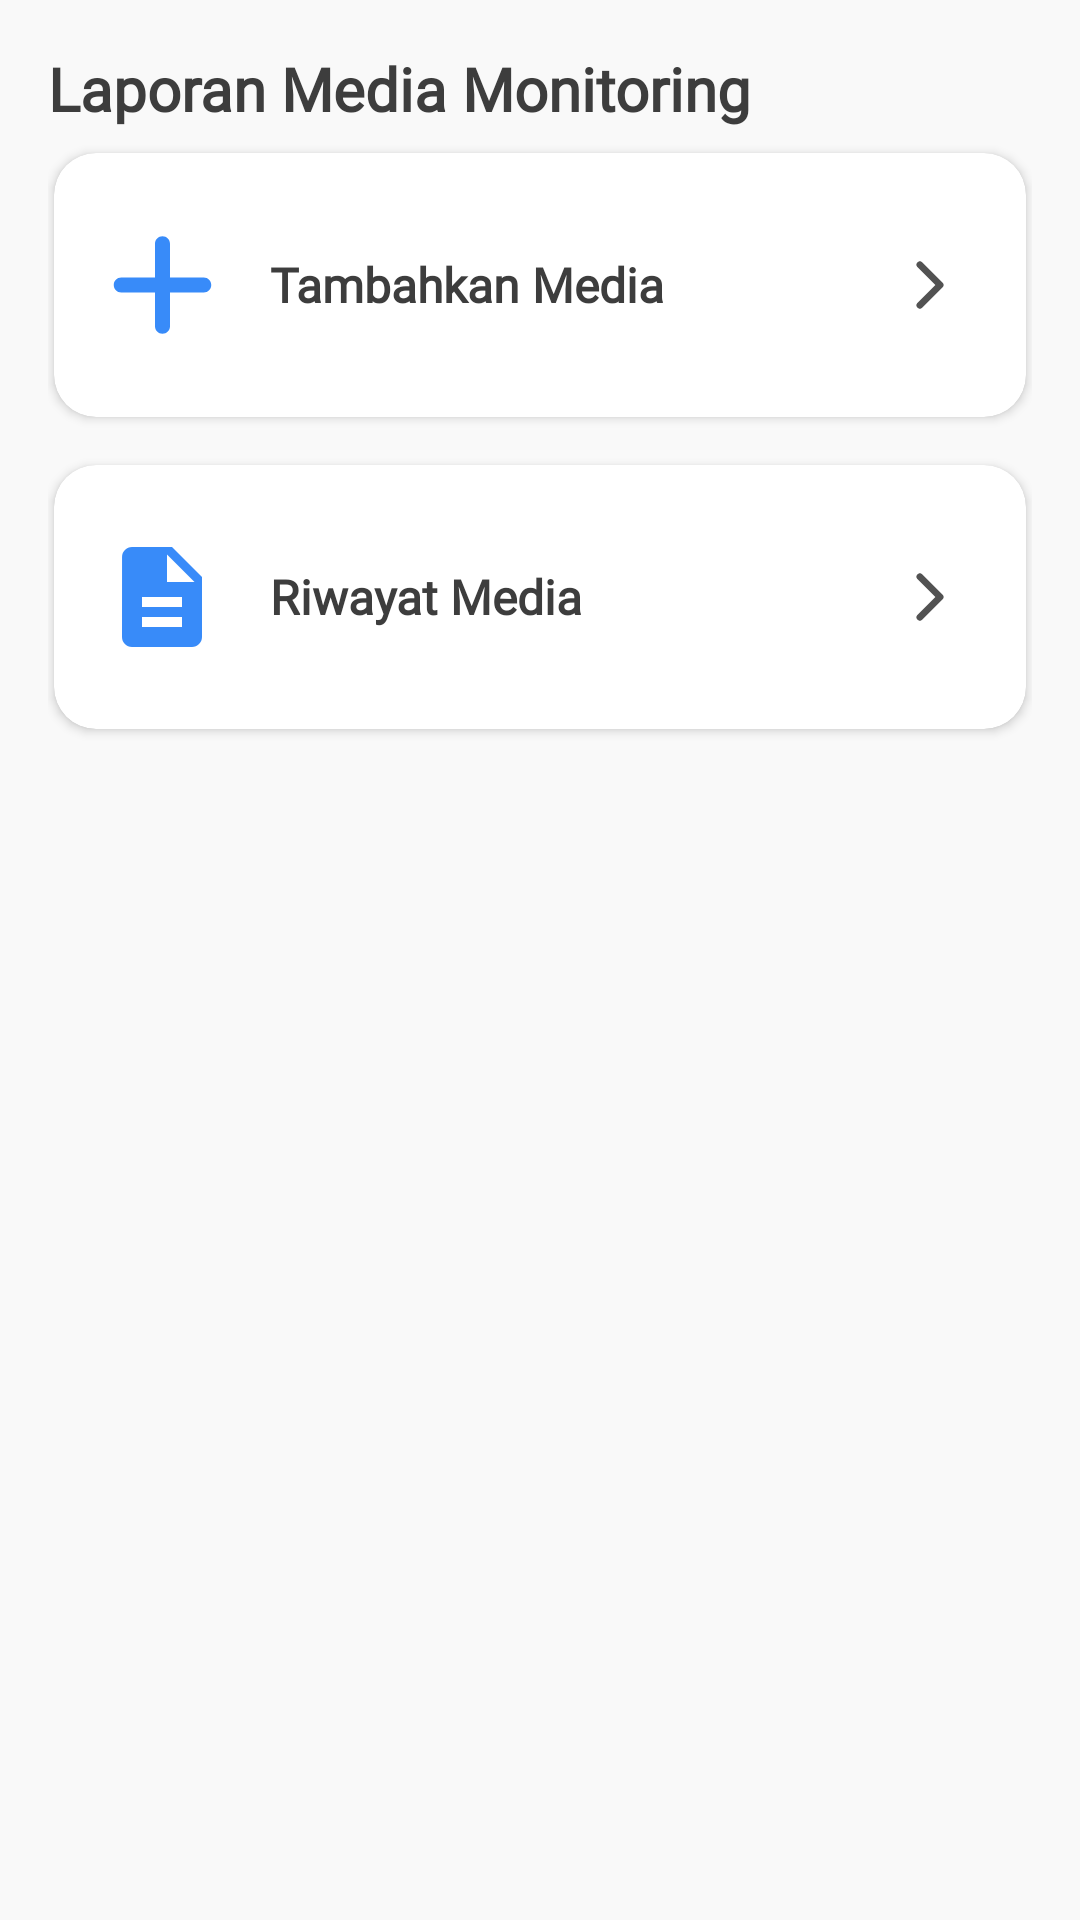

Icons on this 1080*1920 Android screen, each with its box as box(x1, y1, x2, y2):
chevron right: box(916, 261, 944, 309), box(916, 573, 944, 621)
description: box(122, 547, 202, 647)
plus: box(113, 236, 212, 334)
